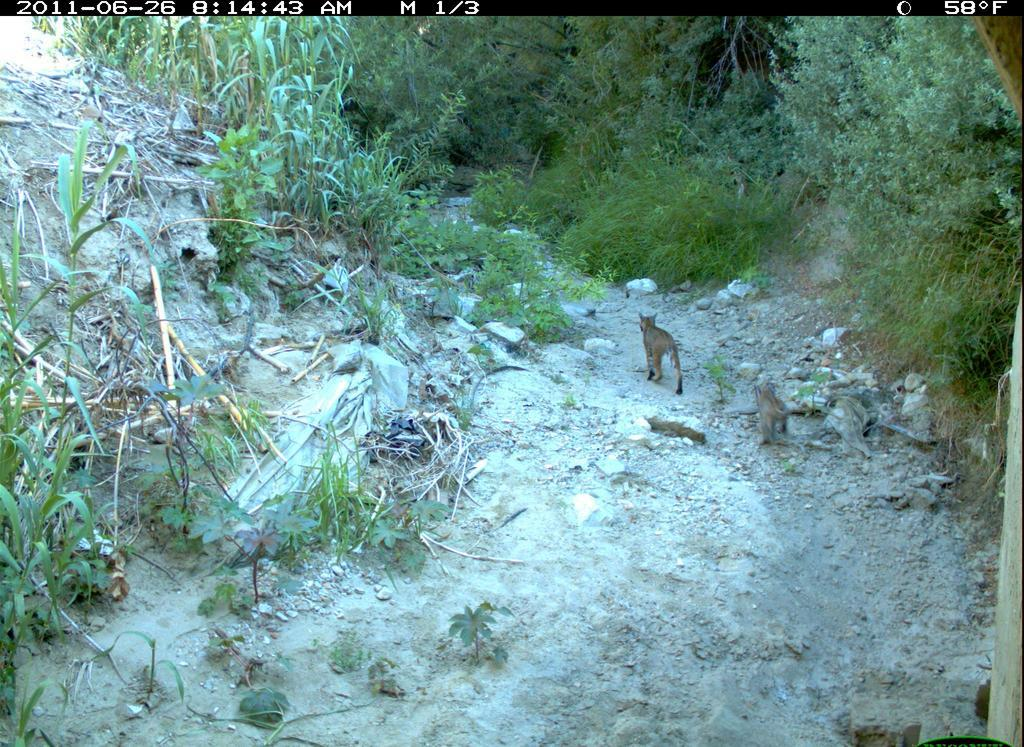bobcat: (632, 306, 693, 402), (751, 374, 803, 454)
